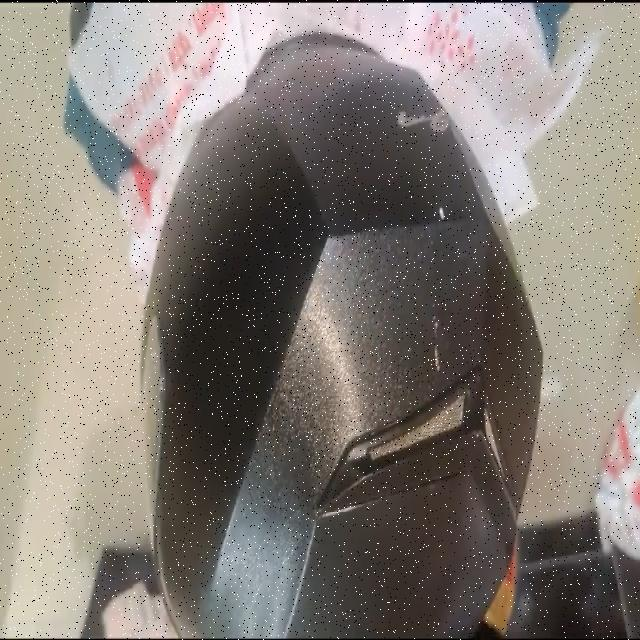Helmet: (142, 36, 542, 636)
